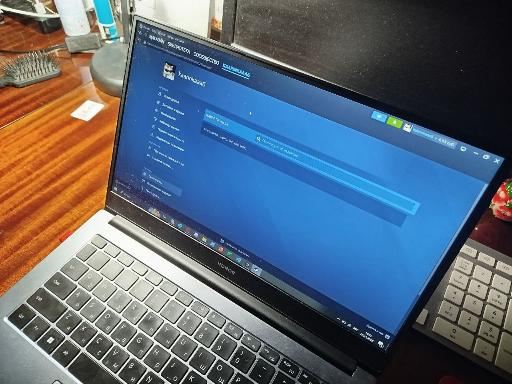steam: (121, 57, 474, 338)
